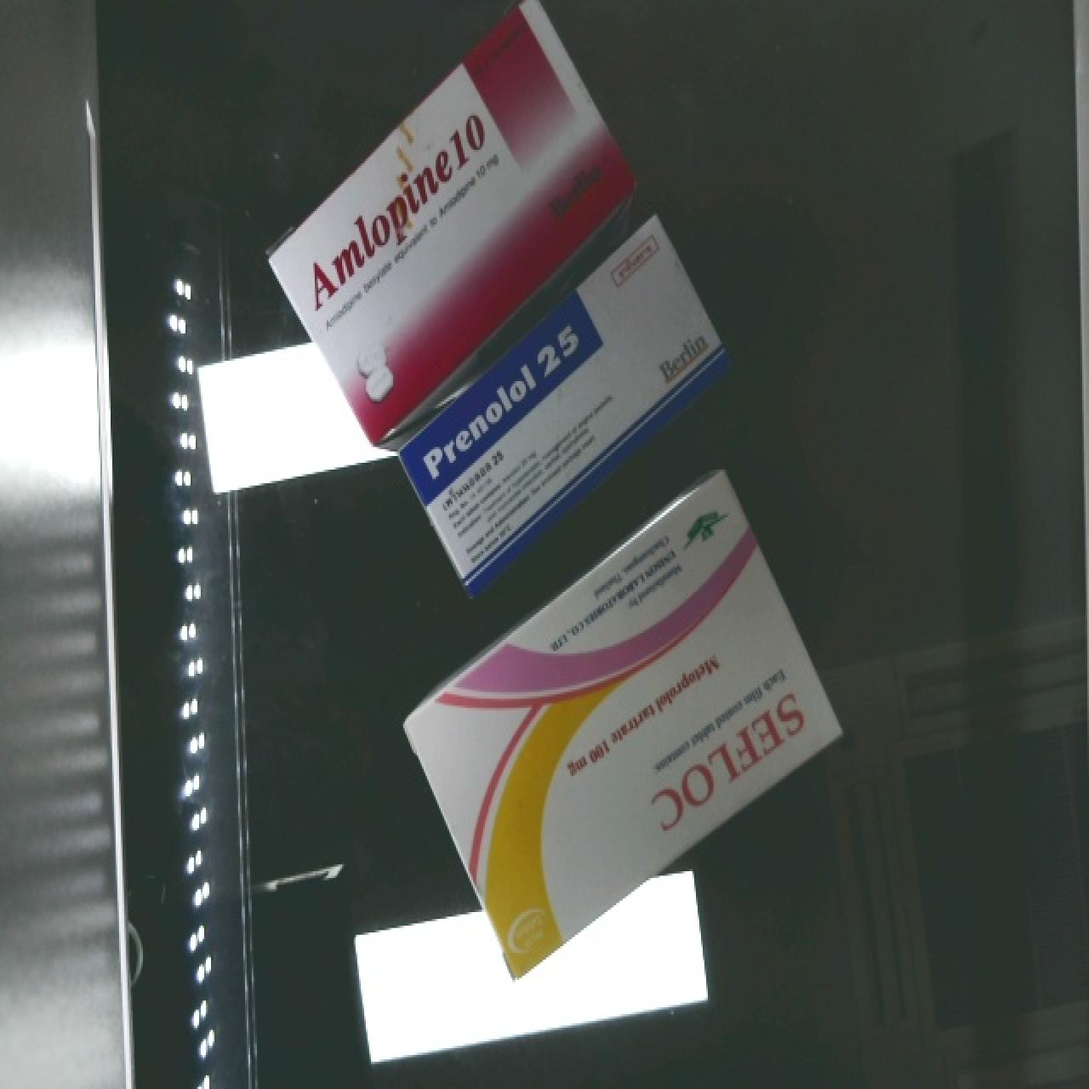medicine_label_obb: (255, 68, 519, 327), (603, 637, 844, 862), (391, 292, 612, 503)
